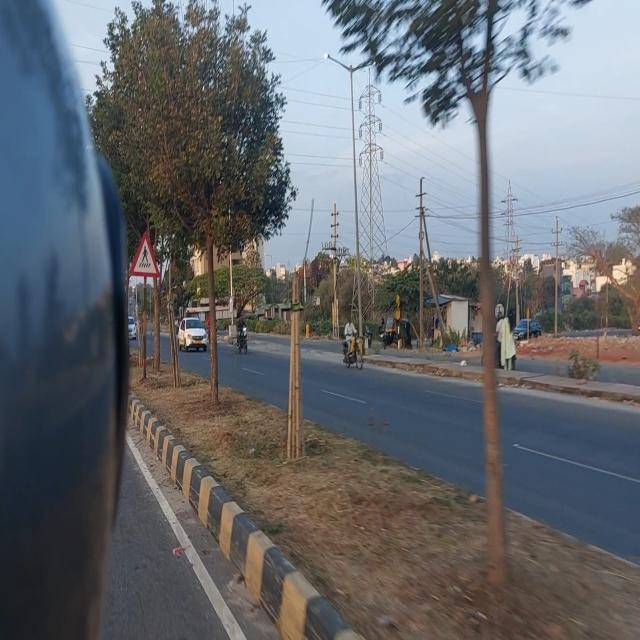bien_nguy_hiem: (130, 227, 159, 280)
